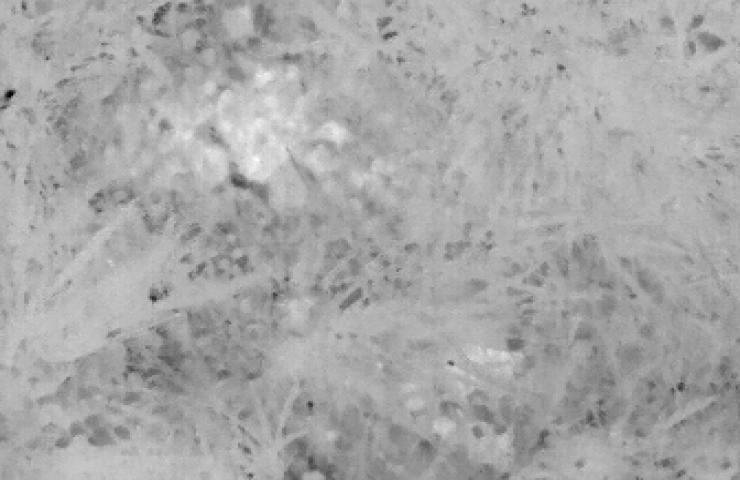landmines: (232, 117, 296, 181)
